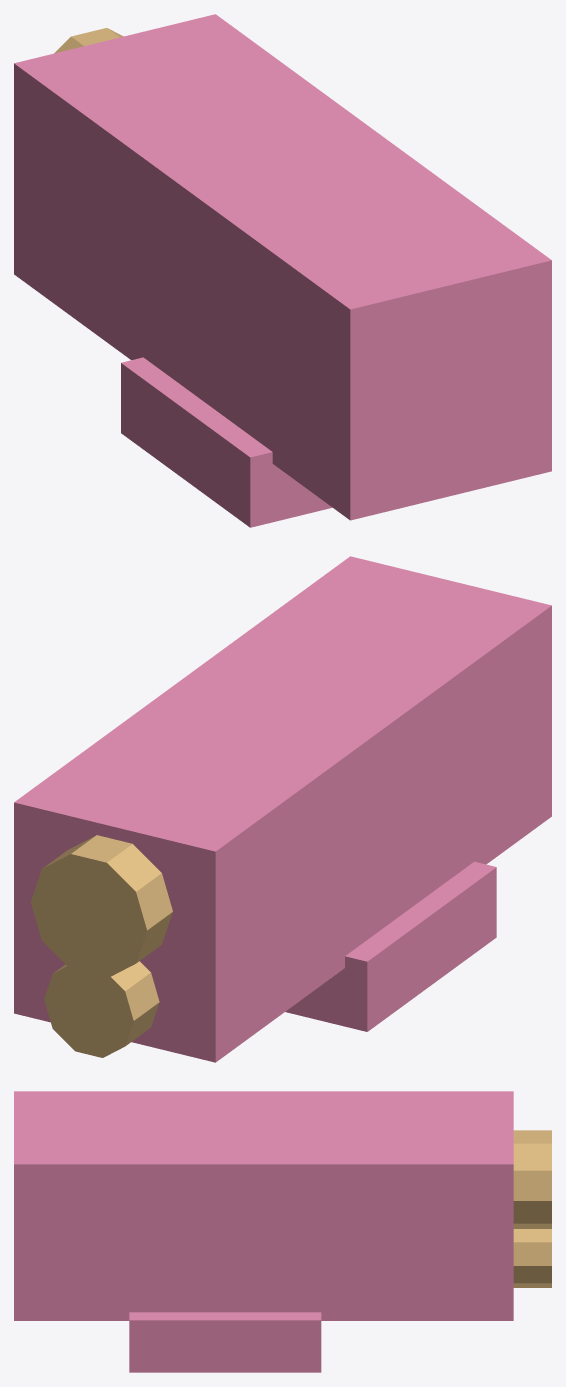
The model's file is TacticalLaser.obj.
3 renders of one model, top to bottom at view 1: azimuth 30°, elevation 25°; view 2: azimuth 150°, elevation 25°; view 3: azimuth 270°, elevation 25°, orthographic. The views are drawn at different scales.
Parts seen in each view (by area): view 1: TacticalLaser_Body, TacticalLaser_Detail; view 2: TacticalLaser_Body, TacticalLaser_Detail; view 3: TacticalLaser_Body, TacticalLaser_Detail.
Boxes of the visible parts, <box> form: TacticalLaser_Body: <box>14,14,551,527</box>; TacticalLaser_Detail: <box>54,28,123,53</box>; TacticalLaser_Body: <box>14,556,551,1062</box>; TacticalLaser_Detail: <box>30,835,172,1057</box>; TacticalLaser_Body: <box>14,1091,513,1372</box>; TacticalLaser_Detail: <box>513,1130,551,1287</box>.
Size of the model in its own units: 0.11 by 0.115 by 0.28.
